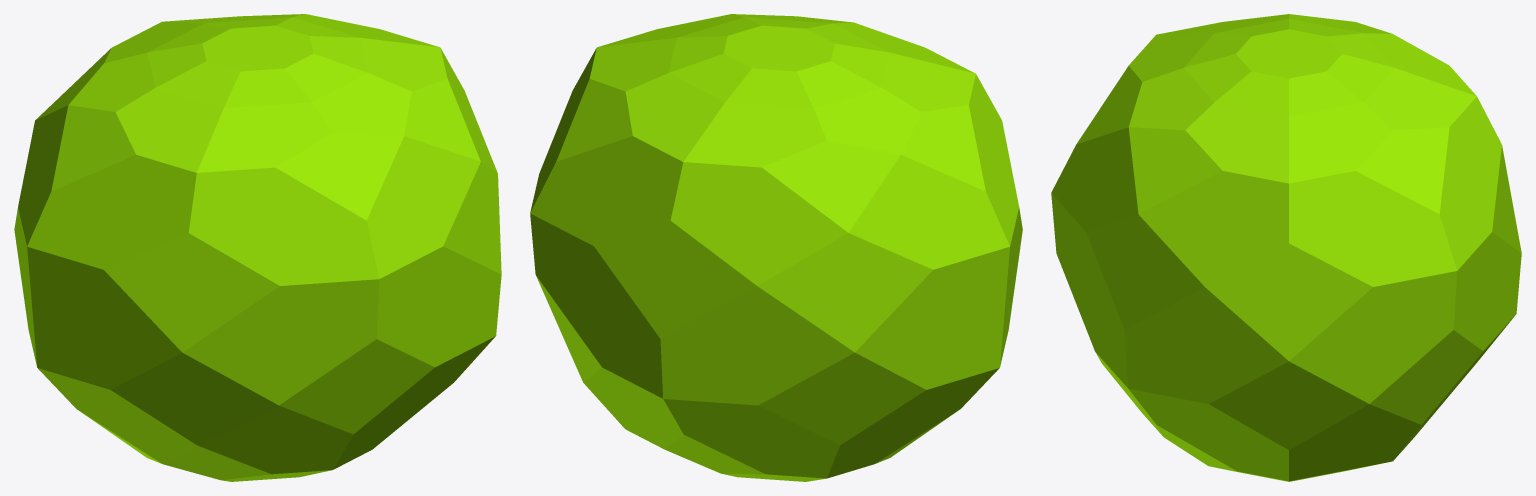
File: lime.fbx
3 views of the same model, side by side, from view 1: azimuth 30°, elevation 25°; view 2: azimuth 150°, elevation 25°; view 3: azimuth 270°, elevation 25° (orthographic). The views are drawn at different scales.
Parts seen in each view (by area): view 1: lime; view 2: lime; view 3: lime.
Boxes of the visible parts, x1,y1,x2,y2 form: lime: (14,14,501,481); lime: (530,14,1022,481); lime: (1051,14,1521,481).
Size of the model in its own units: 4.3 by 3.66 by 3.91.
